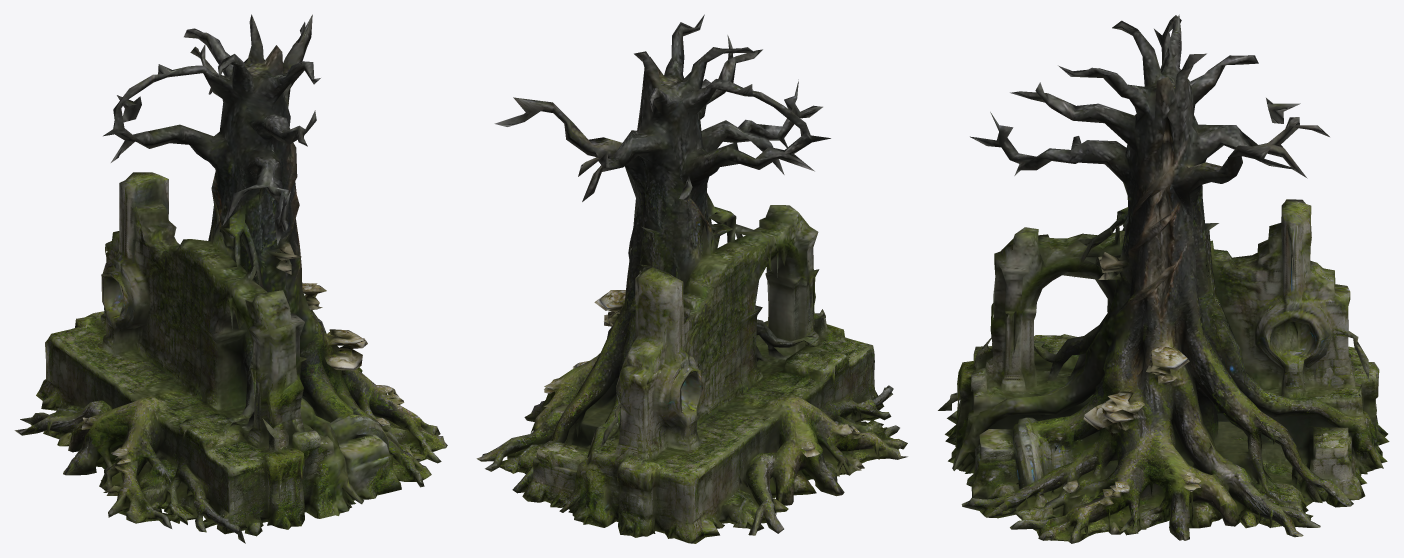
The model's file is env_bw_tree.glb.
3 views of the same model, side by side, from view 1: azimuth 30°, elevation 25°; view 2: azimuth 150°, elevation 25°; view 3: azimuth 270°, elevation 25° (orthographic). The views are drawn at different scales.
Parts seen in each view (by area): view 1: tripo_node_8a22004f-21f9-440e-be3b-332fdc763eed; view 2: tripo_node_8a22004f-21f9-440e-be3b-332fdc763eed; view 3: tripo_node_8a22004f-21f9-440e-be3b-332fdc763eed.
Part boxes in pixels (bbox=[...]): tripo_node_8a22004f-21f9-440e-be3b-332fdc763eed: bbox=[14, 14, 447, 543]; tripo_node_8a22004f-21f9-440e-be3b-332fdc763eed: bbox=[476, 14, 907, 543]; tripo_node_8a22004f-21f9-440e-be3b-332fdc763eed: bbox=[938, 14, 1389, 543].
Size of the model in its own units: 0.8678 by 1 by 0.962.
1 material, 1 textured.
